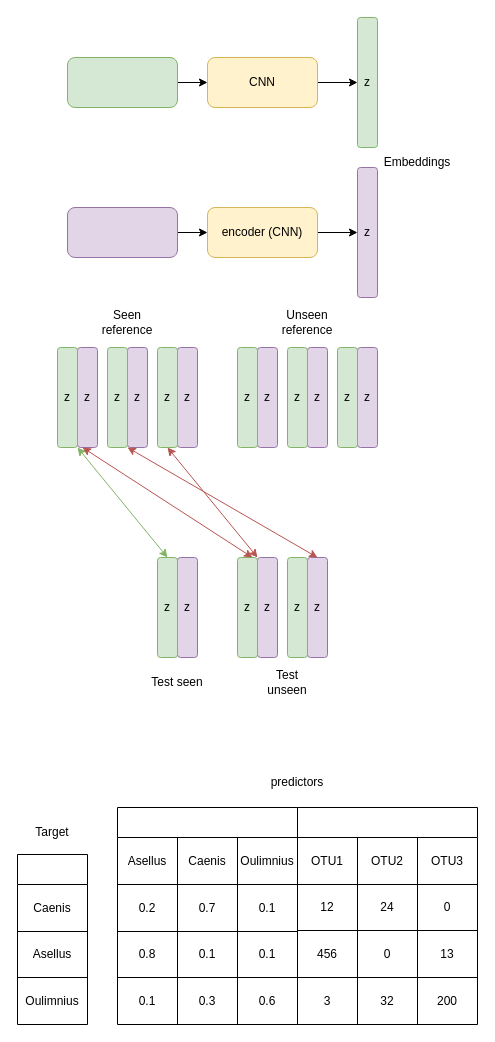
Image size: 495x1042. Some labels were removed from this diagram. Here are the shapes that lost their labels. From the top down, the box of each, then its label:
(66, 56, 178, 108): Images
(66, 206, 178, 258): DNA
(116, 806, 298, 1024): CNN predictions
(296, 806, 478, 1024): OTU reads
(16, 854, 88, 1024): Individual
